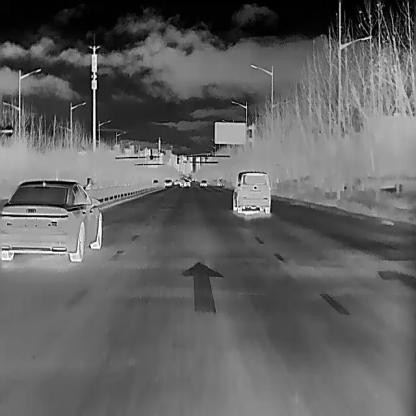car: (0, 178, 101, 261), (233, 170, 270, 214), (178, 177, 190, 186), (162, 178, 172, 186), (199, 178, 206, 185), (150, 178, 158, 184)
